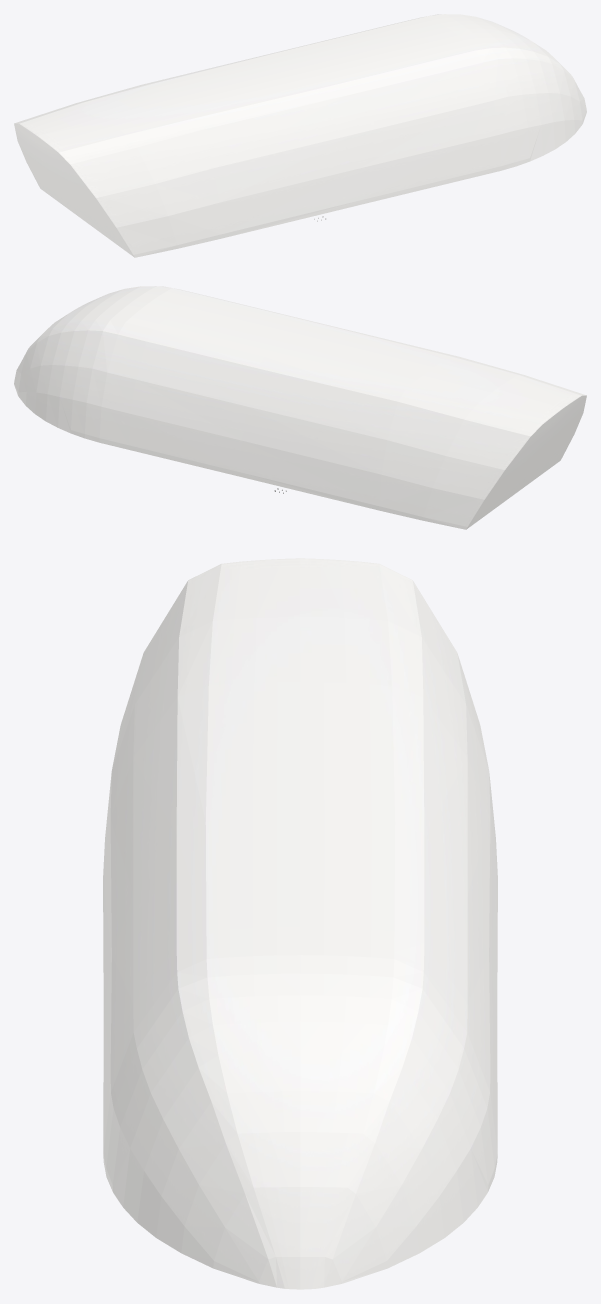
The model's file is HLO_Pod_Top.gltf.
3 views of the same model, one above another, from view 1: azimuth 30°, elevation 25°; view 2: azimuth 150°, elevation 25°; view 3: azimuth 270°, elevation 25° (orthographic). The views are drawn at different scales.
Parts seen in each view (by area): view 1: 001_Pod_Top; view 2: 001_Pod_Top; view 3: 001_Pod_Top.
Part boxes in pixels (bbox=[...]): 001_Pod_Top: bbox=[14, 14, 586, 257]; 001_Pod_Top: bbox=[14, 286, 586, 529]; 001_Pod_Top: bbox=[103, 558, 497, 1289].
Size of the model in its own units: 9.23 by 2.53 by 2.9.
2 materials, 1 textured.
